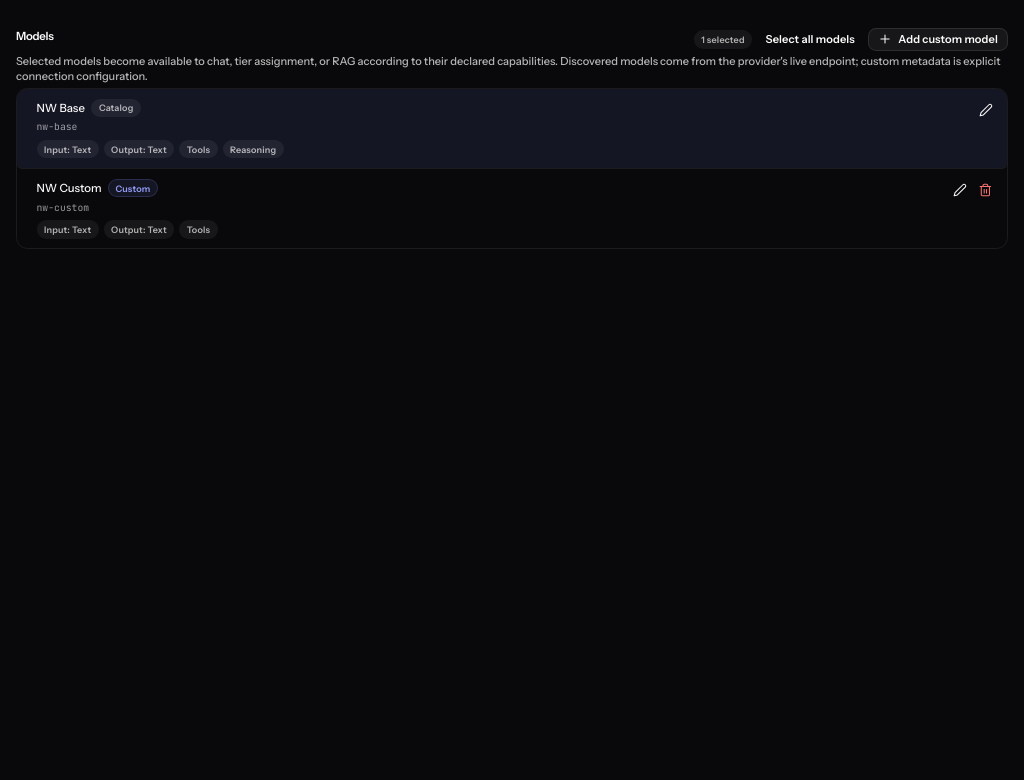
Test: connection models unified listing › pre-fills the pricing section from the signed-catalog rate card when no override is set
Click the button named "Edit NW Base": [986, 110] box 974,99 -> 997,122
(page scrolled)
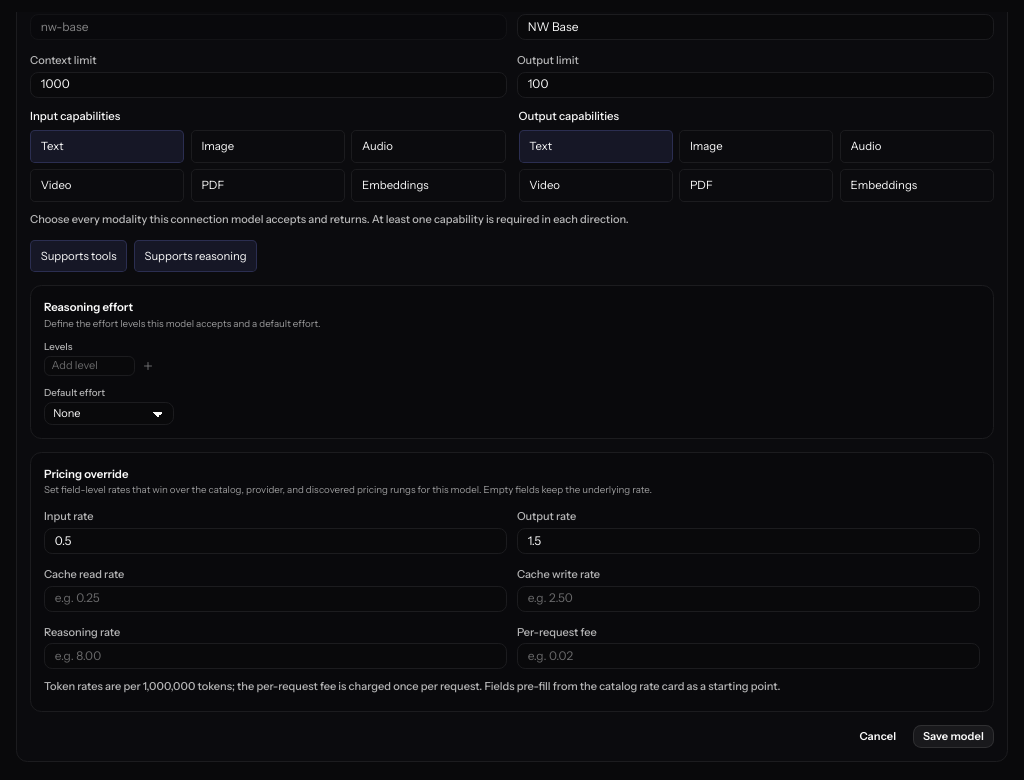
Expected: the heading "Pricing override" is shown, 44,467 -> 128,481
Expected: the field showing "0.5" is shown, 44,528 -> 507,554
Expected: the field showing "1.5" is shown, 517,528 -> 980,554
